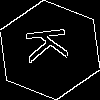K: (25, 25, 79, 64)
